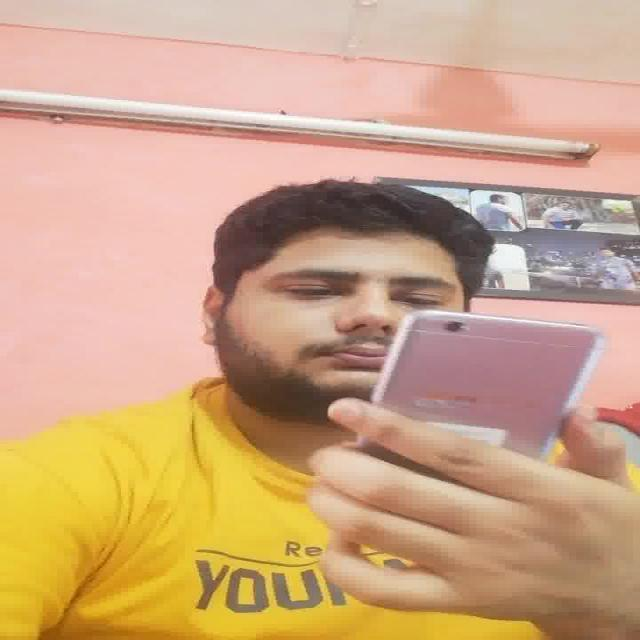Phone: (359, 306, 609, 467)
